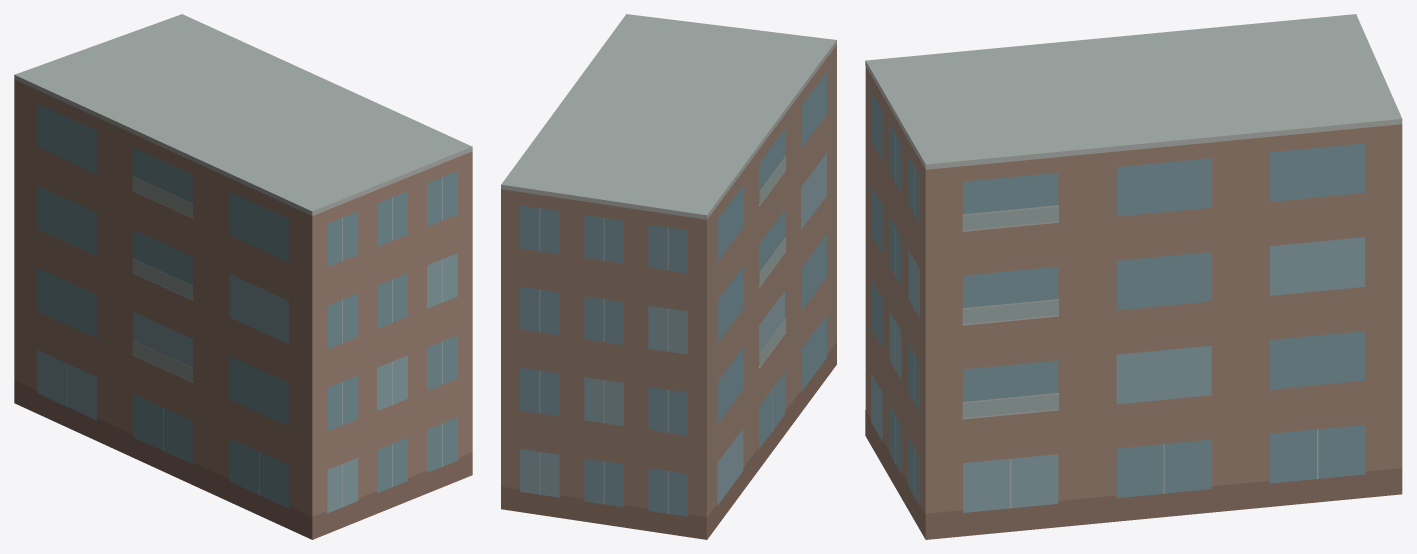
Rendered from survey-upis-32705567.glb.
3 renders of one model, left to right at view 1: azimuth 30°, elevation 25°; view 2: azimuth 150°, elevation 25°; view 3: azimuth 270°, elevation 25°, orthographic. The views are drawn at different scales.
Parts seen in each view (by area): view 1: survey-upis-32705567.tmp; view 2: survey-upis-32705567.tmp; view 3: survey-upis-32705567.tmp.
Boxes of the visible parts, x1=… form: survey-upis-32705567.tmp: x1=14, y1=14, x2=472, y2=539; survey-upis-32705567.tmp: x1=501, y1=14, x2=836, y2=539; survey-upis-32705567.tmp: x1=865, y1=14, x2=1402, y2=539.
Size of the model in its own units: 15.07 by 17.5 by 22.7.
